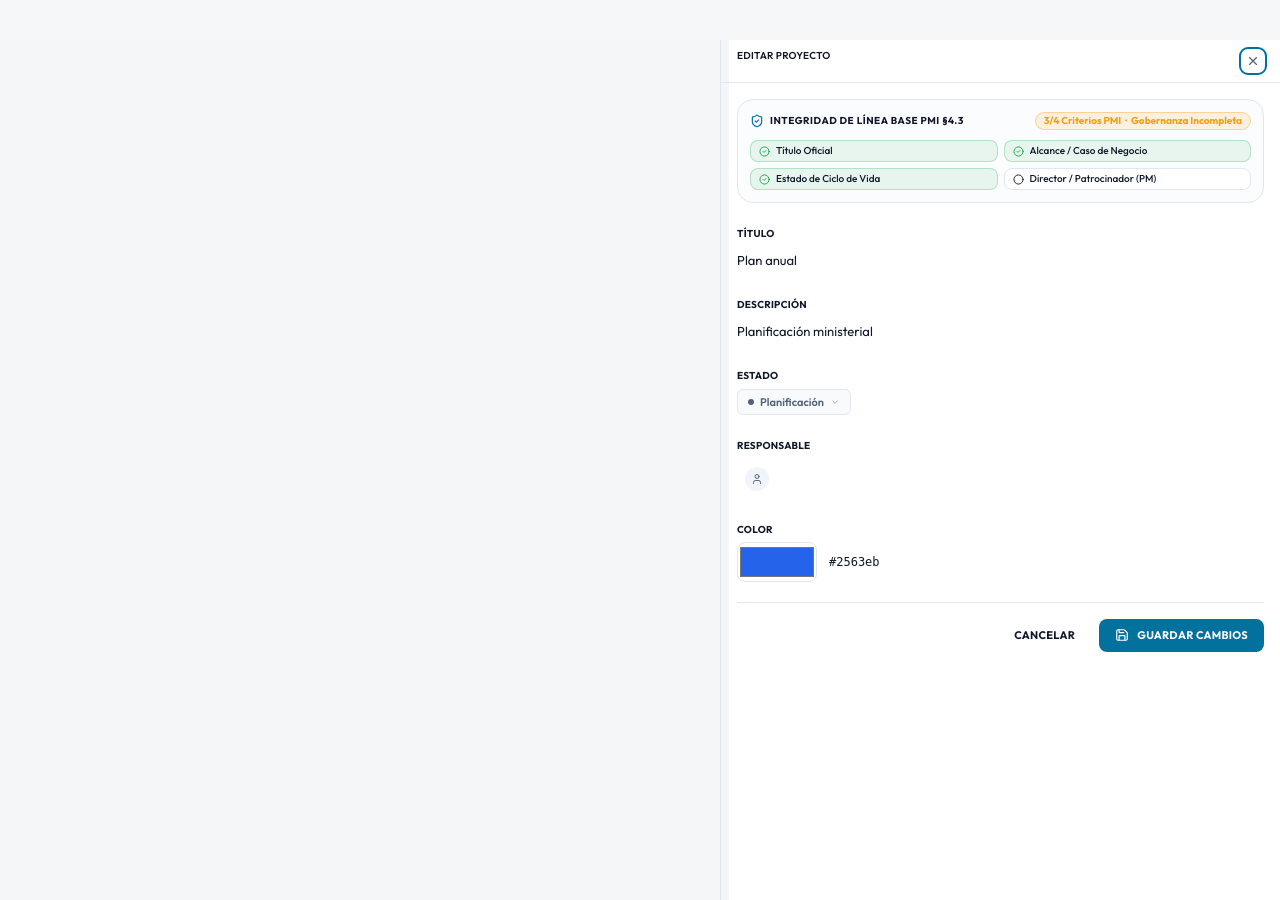
Test: ProjectSettingsDrawer accessibility › displays PMI §4.6 CCB notice dynamically when lifecycle status changes
This screenshot has width=1280, height=900.
Click the button with aria-label "Cambiar estado del proyecto" at (794, 402), box x1=737 y1=388 x2=851 y2=415
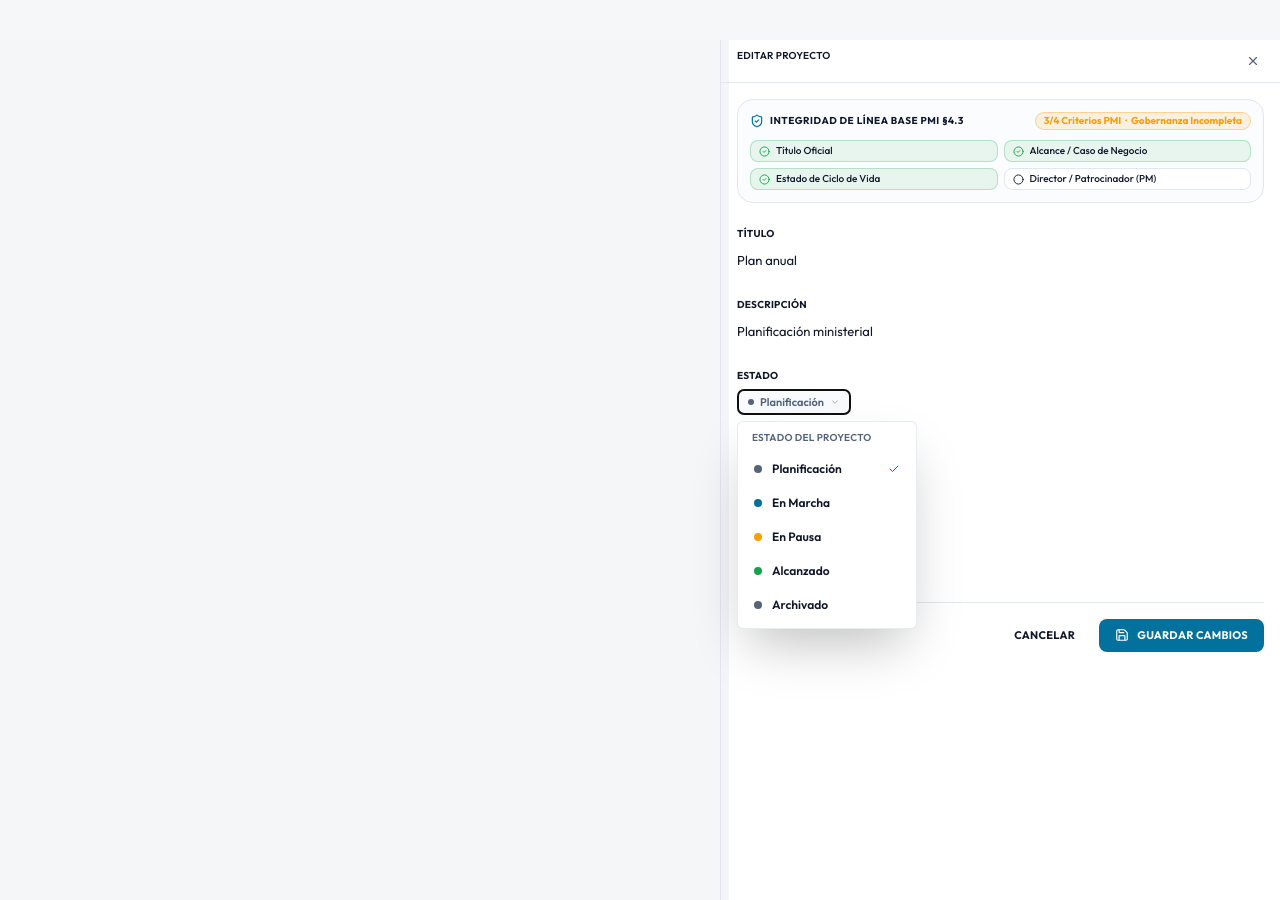
Click the button "En Marcha" at (827, 503), box x1=744 y1=486 x2=910 y2=520
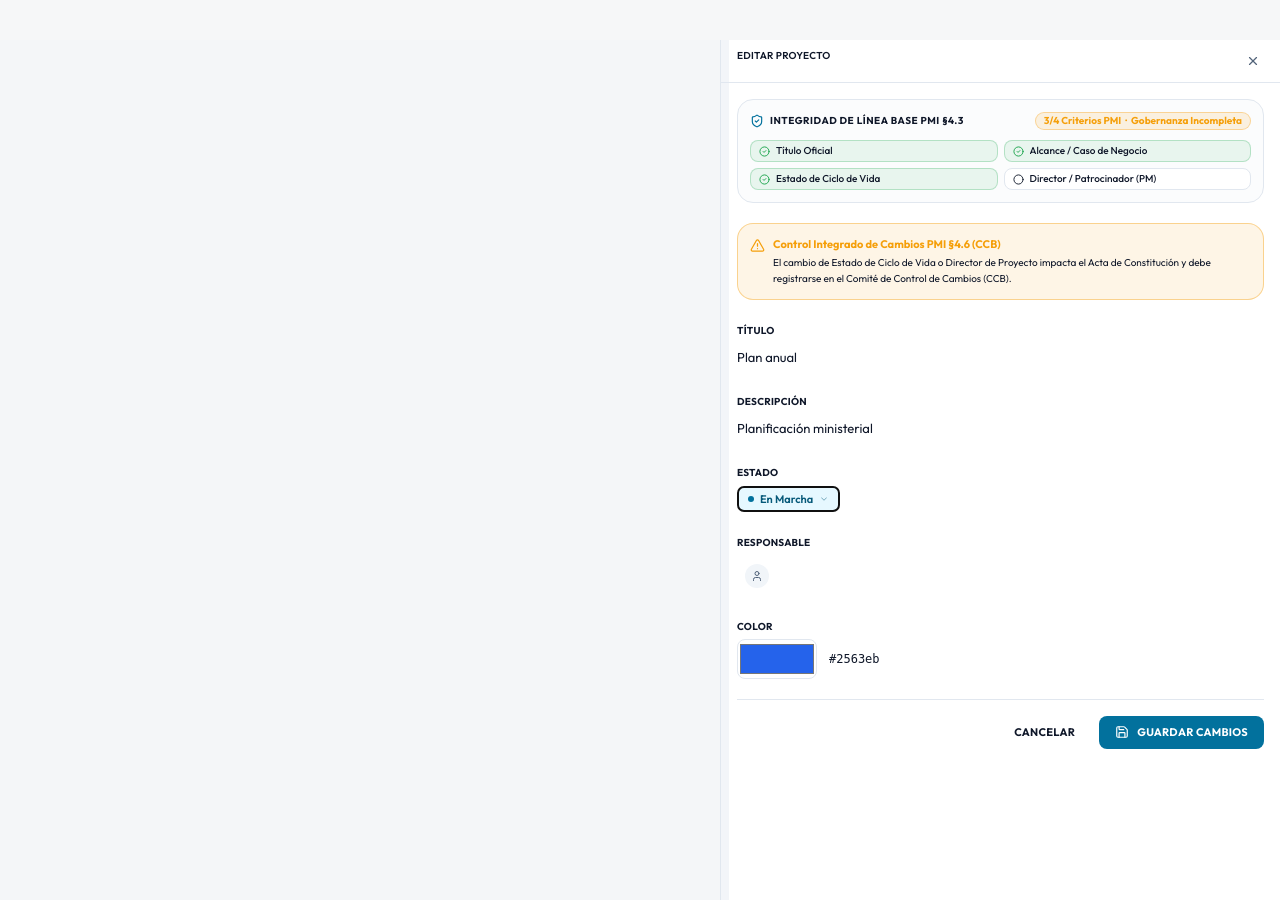
Check: the element with test id "project-settings-pmi-ccb-notice" is shown, box x1=737 y1=223 x2=1264 y2=300
Check: the element with test id "project-settings-pmi-ccb-notice" shows "Comité de Control de Cambios (CCB)", box x1=773 y1=256 x2=1211 y2=285
